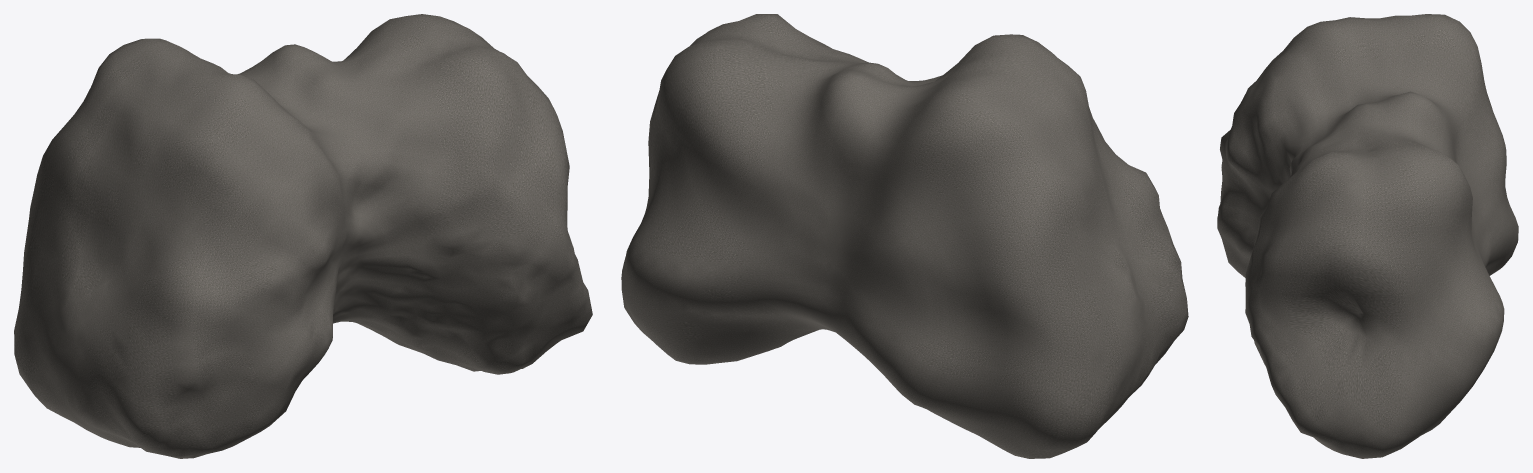
File: mithra.glb
The picture shows the model from 3 angles, left to right: view 1: azimuth 30°, elevation 25°; view 2: azimuth 150°, elevation 25°; view 3: azimuth 270°, elevation 25°; orthographic projection. The views are drawn at different scales.
Visible parts, largest first — view 1: Asteroid 4486 Mithra; view 2: Asteroid 4486 Mithra; view 3: Asteroid 4486 Mithra.
Boxes of the visible parts, <box> form: Asteroid 4486 Mithra: <box>14,14,592,458</box>; Asteroid 4486 Mithra: <box>621,14,1188,458</box>; Asteroid 4486 Mithra: <box>1217,14,1518,458</box>.
Bounding box in the file's own units: 2350 × 1648 × 1434.
Materials: 1 (1 with a texture image).
